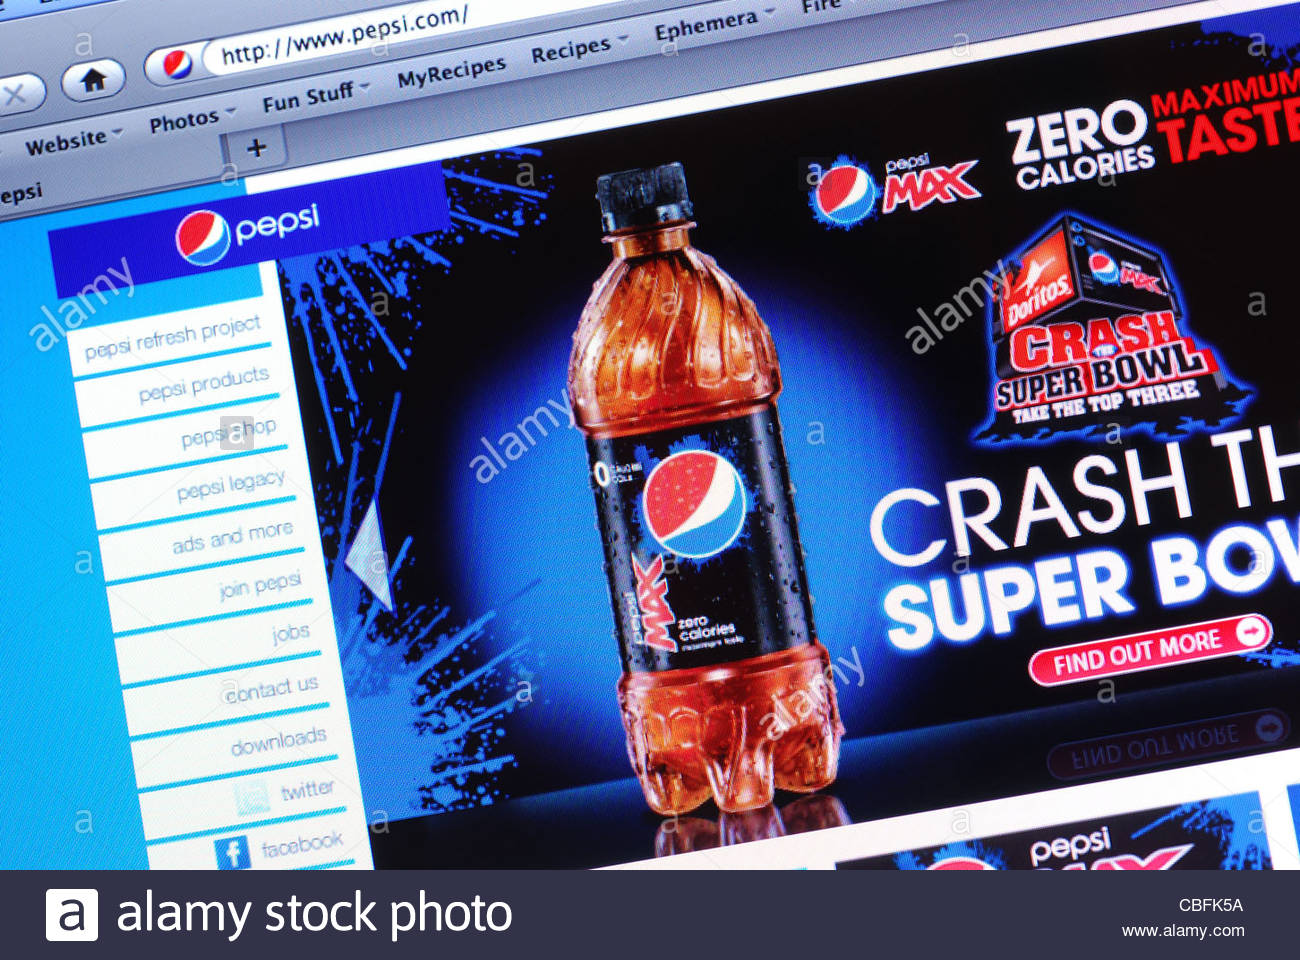pepsi: (634, 438, 745, 556), (639, 448, 745, 556), (810, 159, 876, 221), (174, 205, 229, 265), (1083, 247, 1120, 281), (161, 49, 195, 77)
